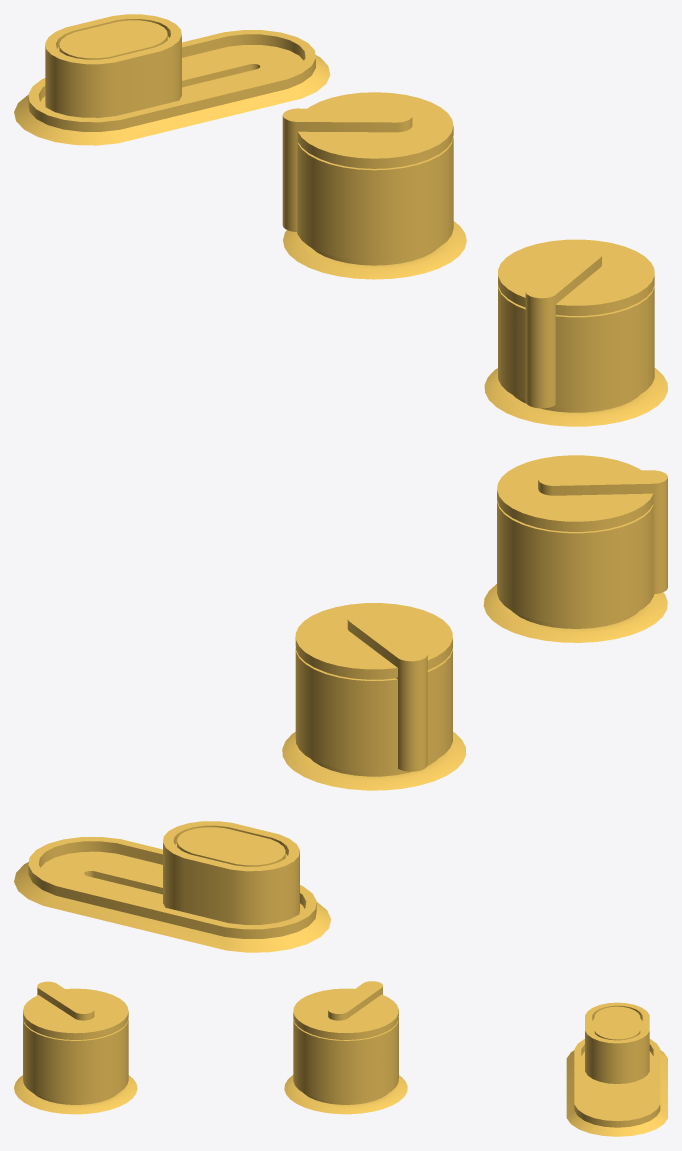
Rendered from GB_Button_A.glb.
3 views of the same model, one above another, from view 1: azimuth 30°, elevation 25°; view 2: azimuth 150°, elevation 25°; view 3: azimuth 270°, elevation 25° (orthographic). The views are drawn at different scales.
Visible parts, largest first — view 1: GB_Button_A; view 2: GB_Button_A; view 3: GB_Button_A.
Part boxes in pixels (left/top/right/bottom): GB_Button_A: left=14, top=14, right=667, bottom=426; GB_Button_A: left=14, top=455, right=667, bottom=952; GB_Button_A: left=14, top=981, right=667, bottom=1136.
Bounding box in the file's own units: 0.0339 × 0.0142 × 0.0965.
